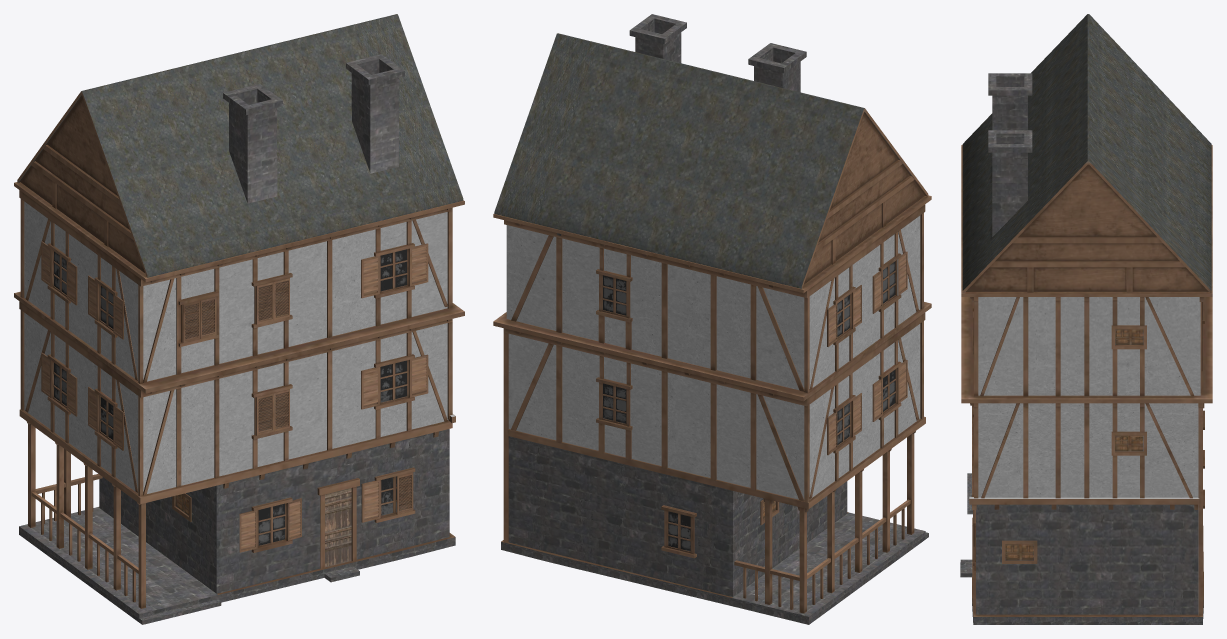
Rendered from CASA.gltf.
3 renders of one model, left to right at view 1: azimuth 30°, elevation 25°; view 2: azimuth 150°, elevation 25°; view 3: azimuth 270°, elevation 25°, orthographic. The views are drawn at different scales.
Parts seen in each view (by area): view 1: Medieval_House_03; view 2: Medieval_House_03; view 3: Medieval_House_03.
Part boxes in pixels (box(x1,y1,x2,y2)): Medieval_House_03: box(14, 14, 464, 624); Medieval_House_03: box(493, 14, 931, 624); Medieval_House_03: box(960, 14, 1212, 624).
Bounding box in the file's own units: 8.78 × 12.78 × 6.29.
1 material, 1 textured.
